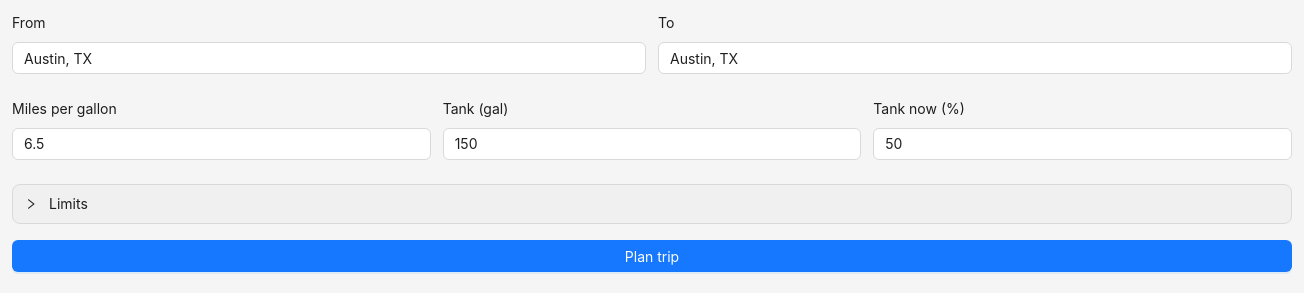
Test case: blocks the same city twice
Click the button "Plan trip".
click(652, 256)  # box [12,240,1292,272]
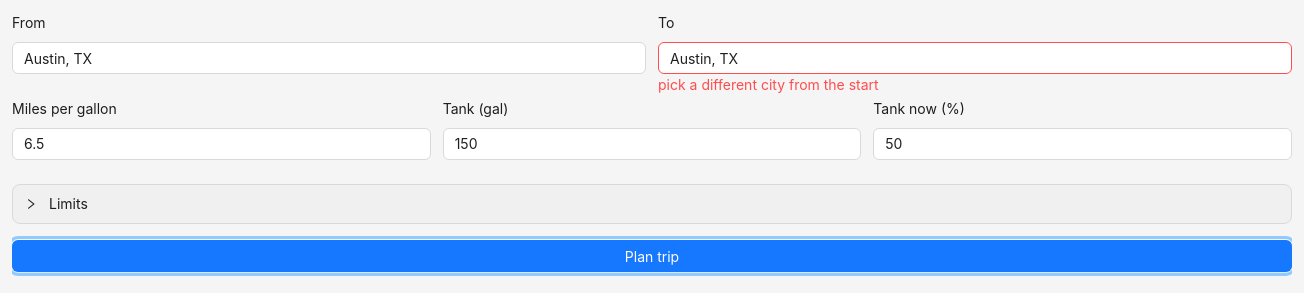
Expected: the text "pick a different city from the start" is shown, [658,76,879,93]
